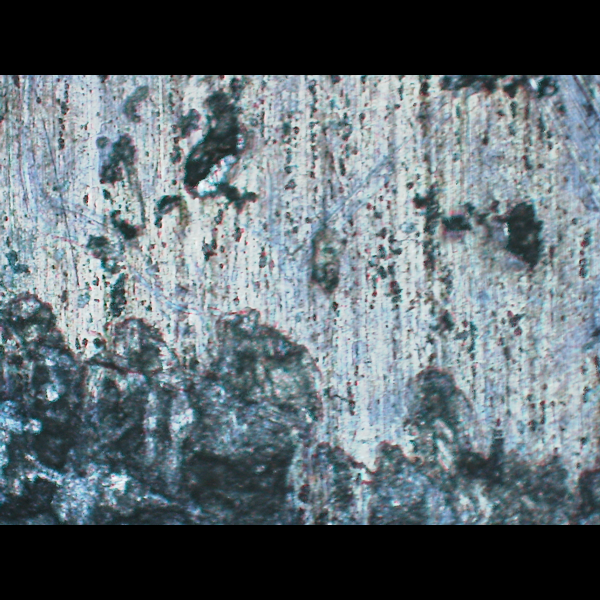d: (0, 267, 599, 524), (99, 84, 263, 230)
